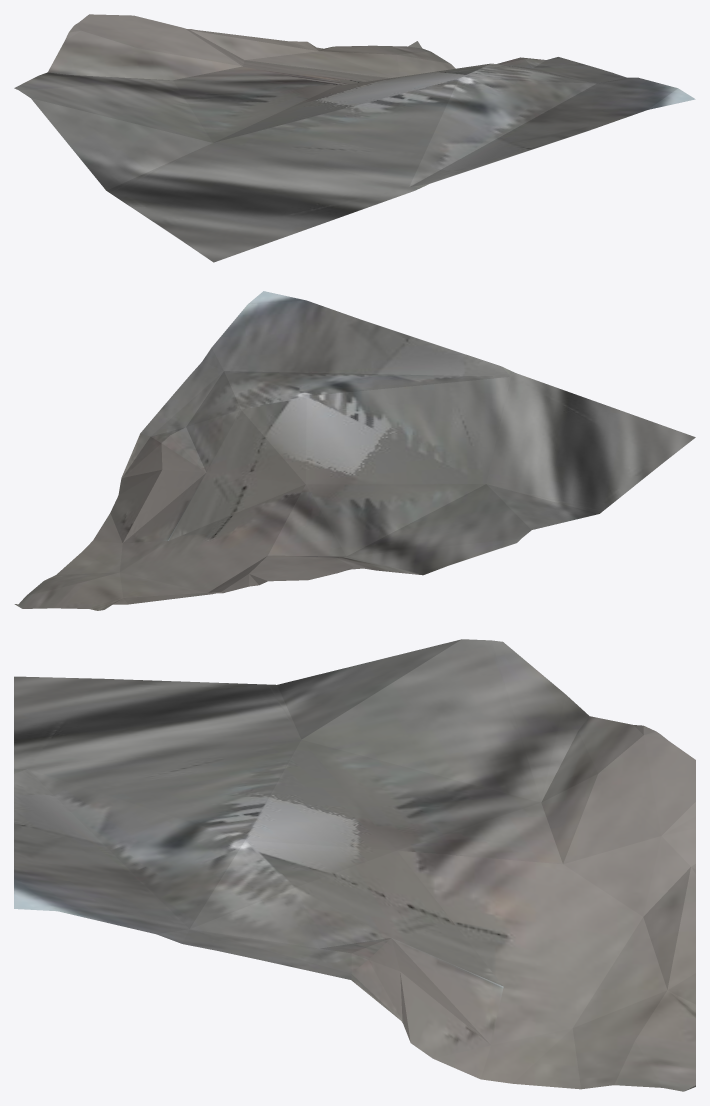
The picture shows the model from 3 angles, top to bottom: view 1: azimuth 30°, elevation 25°; view 2: azimuth 150°, elevation 25°; view 3: azimuth 270°, elevation 25°; orthographic projection. The views are drawn at different scales.
Size of the model in its own units: 1.67 by 0.4992 by 1.67.
Materials: 2 (2 with a texture image).
